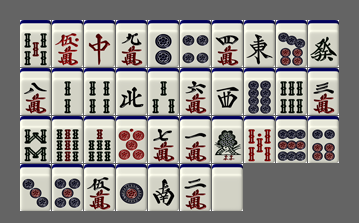0m: (52, 20, 83, 67)
0p: (116, 116, 147, 163)
0s: (244, 116, 275, 163)
1m: (180, 116, 211, 163)
1p: (116, 164, 147, 211)
1s: (212, 116, 243, 163)
1z: (244, 20, 275, 67)
2m: (180, 164, 211, 211)
2p: (148, 20, 179, 67)
2s: (52, 68, 83, 115)
2z: (148, 164, 179, 211)
3m: (308, 68, 339, 115)
3p: (20, 164, 51, 211)
3s: (148, 68, 179, 115)
3z: (212, 68, 243, 115)
4m: (212, 20, 243, 67)
4p: (180, 20, 211, 67)
4s: (84, 68, 115, 115)
4z: (116, 68, 147, 115)
5m: (84, 164, 115, 211)
5p: (52, 164, 83, 211)
5s: (20, 20, 51, 67)
5z: (212, 164, 243, 211)
6m: (180, 68, 211, 115)
6p: (308, 116, 339, 163)
6s: (276, 68, 307, 115)
6z: (308, 20, 339, 67)
7m: (148, 116, 179, 163)
7p: (276, 20, 307, 67)
7s: (84, 116, 115, 163)
7z: (84, 20, 115, 67)
8m: (20, 68, 51, 115)
8p: (244, 68, 275, 115)
8s: (20, 116, 51, 163)
9m: (116, 20, 147, 67)
9p: (276, 116, 307, 163)
9s: (52, 116, 83, 163)
